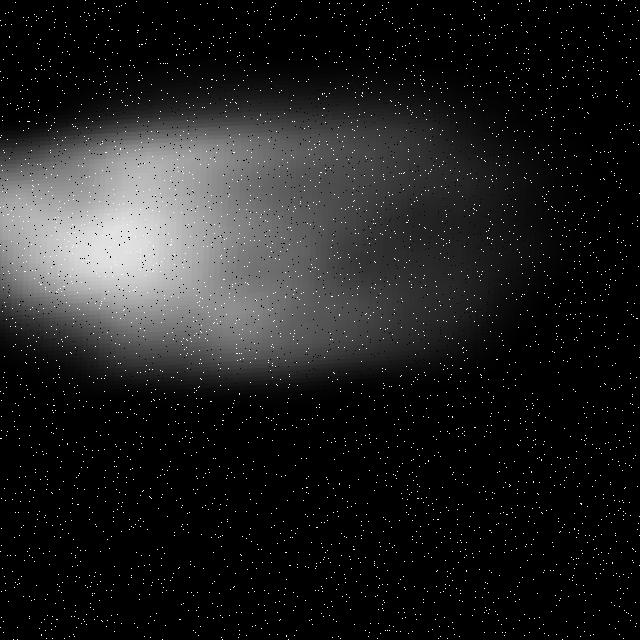person: (1, 30, 566, 422)
